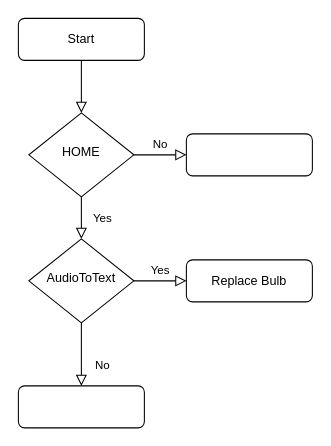
Some shapes in this 331 by 446 pixel diagram are drawn without their labels. The centre of each missing label's shape, as x and y in pixels:
"Plug in lamp" goes at (x=248, y=154).
"Repair Lamp" goes at (x=80, y=406).
